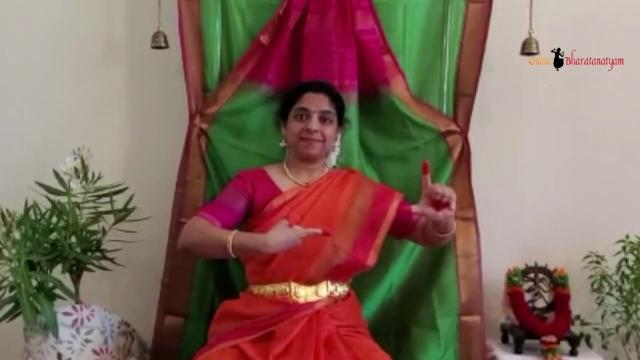chandrakala: (394, 146, 474, 232), (256, 209, 342, 263)
